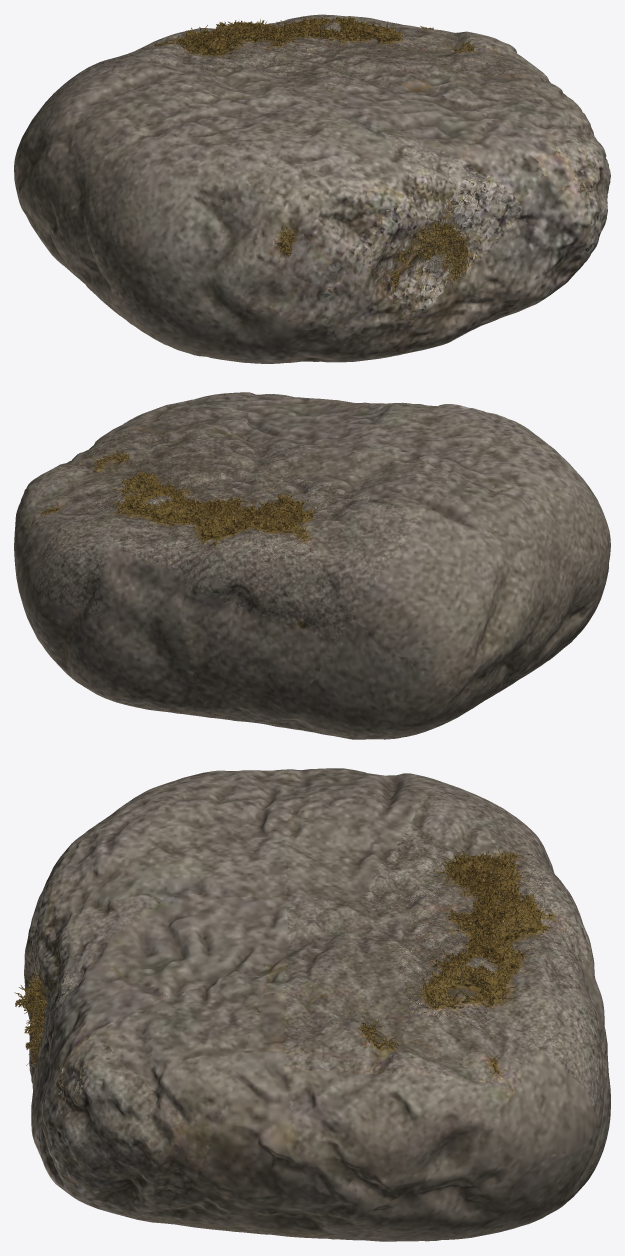
The model's file is stone.glb.
3 views of the same model, one above another, from view 1: azimuth 30°, elevation 25°; view 2: azimuth 150°, elevation 25°; view 3: azimuth 270°, elevation 25° (orthographic). The views are drawn at different scales.
Visible parts, largest first — view 1: Mesh_0.002; view 2: Mesh_0.002; view 3: Mesh_0.002.
Part boxes in pixels (box(x1,y1,x2,y2)): Mesh_0.002: box(14, 14, 610, 363); Mesh_0.002: box(14, 392, 610, 739); Mesh_0.002: box(14, 768, 610, 1241).
Size of the model in its own units: 0.2452 by 0.11 by 0.204.
Materials: 1 (1 with a texture image).
